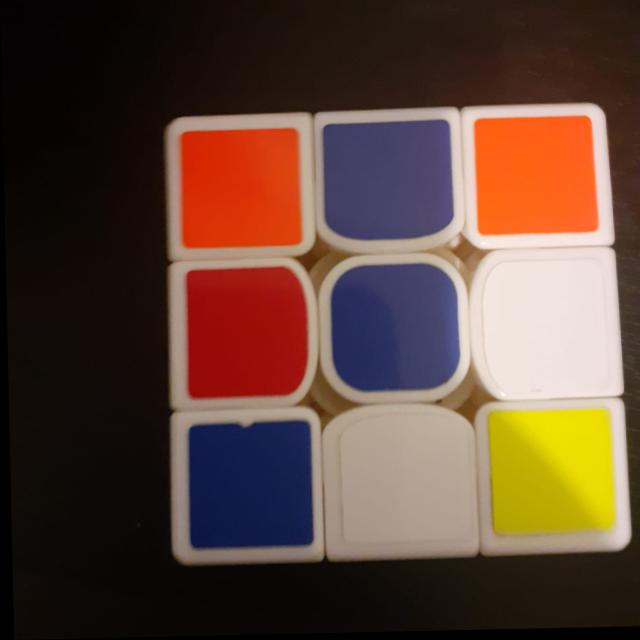Blue: (320, 255, 464, 404), (172, 415, 319, 559), (316, 117, 458, 250)
Orange: (168, 120, 309, 260), (467, 116, 609, 247)
Red: (167, 265, 315, 405)
White: (468, 259, 624, 402), (327, 410, 474, 556)
Yellow: (479, 407, 628, 552)
